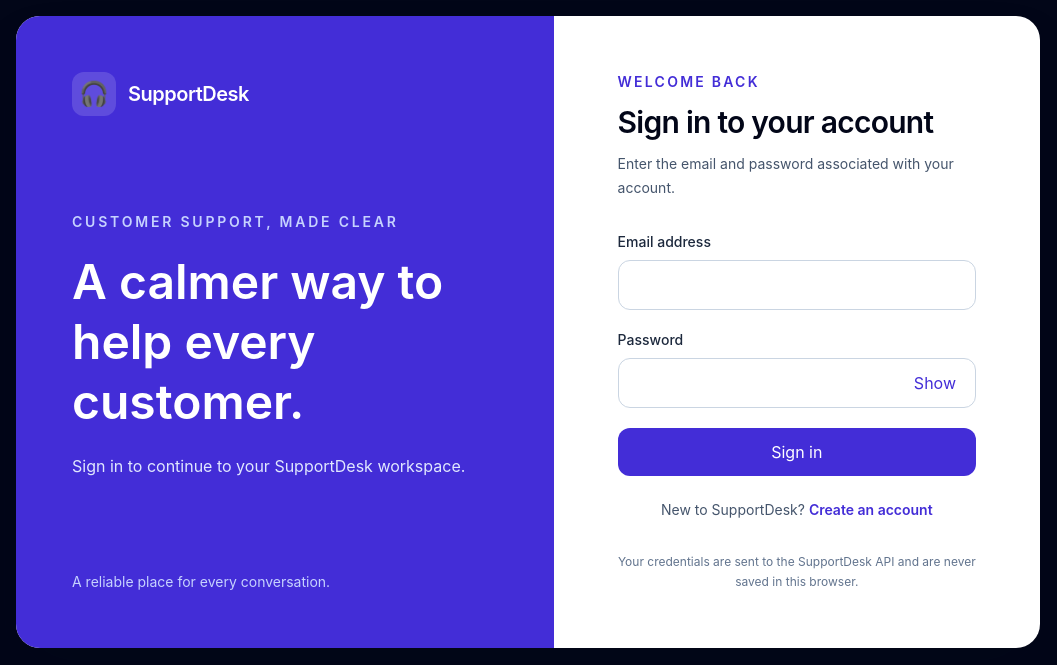
SupportDesk frontend foundation › toggles password visibility without moving the Show button
Type "demo-password" into the password field labelled "Password" at (797, 383), box [618,358,976,408]
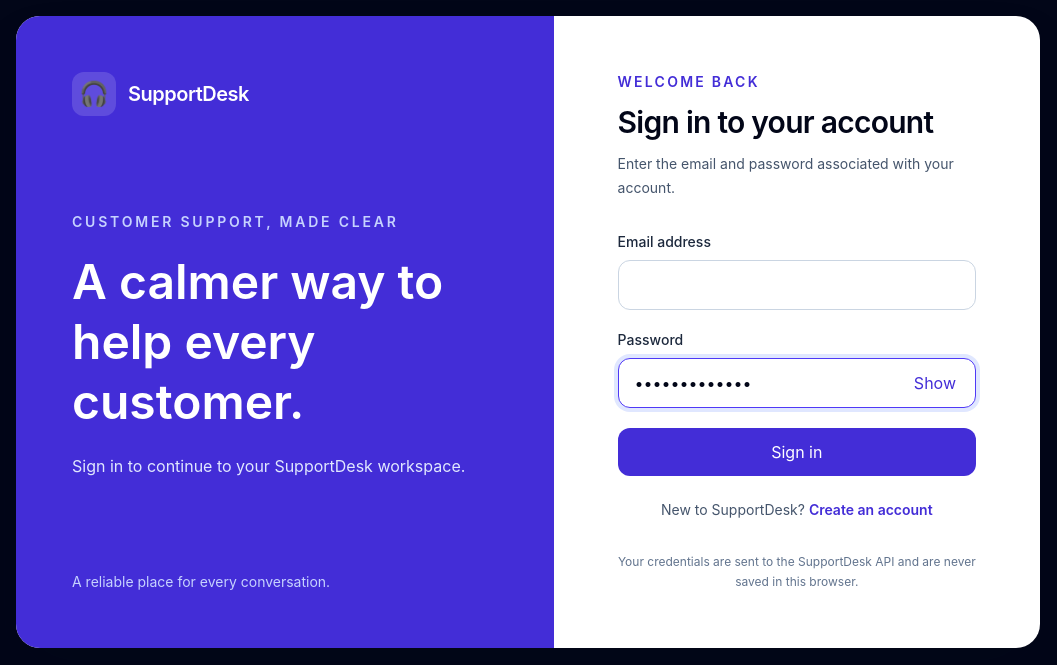
Click the button with aria-label "Show password" at (935, 383), box [906,367,964,399]
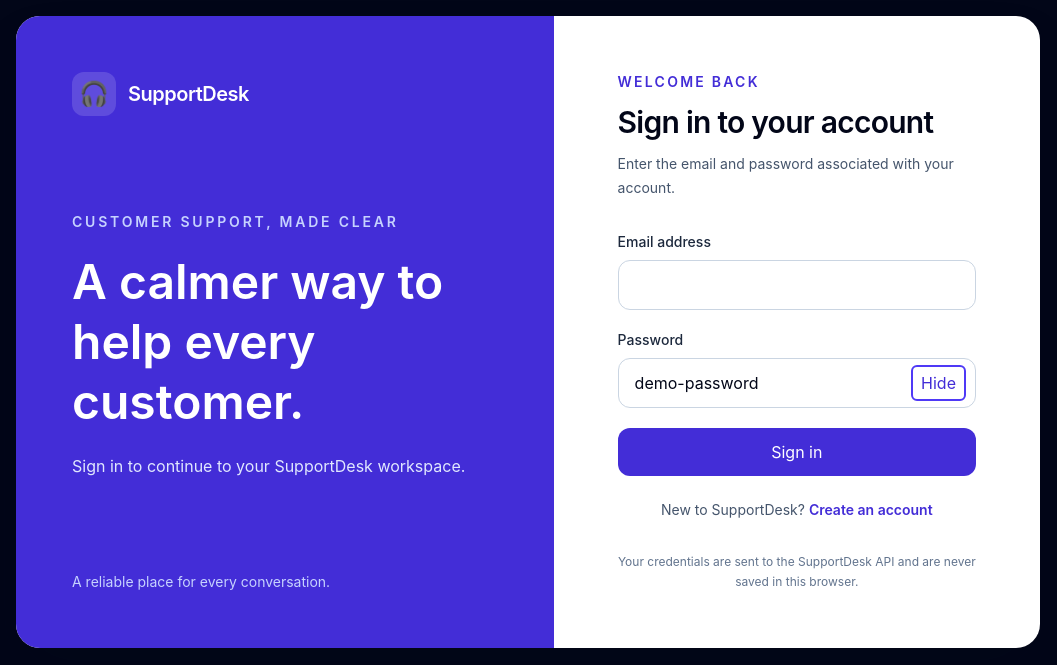
Expected: the field labelled "Password" shows its text, [618,358,976,408]
Click the button with aria-label "Hide password" at (939, 383), box [913,367,964,399]
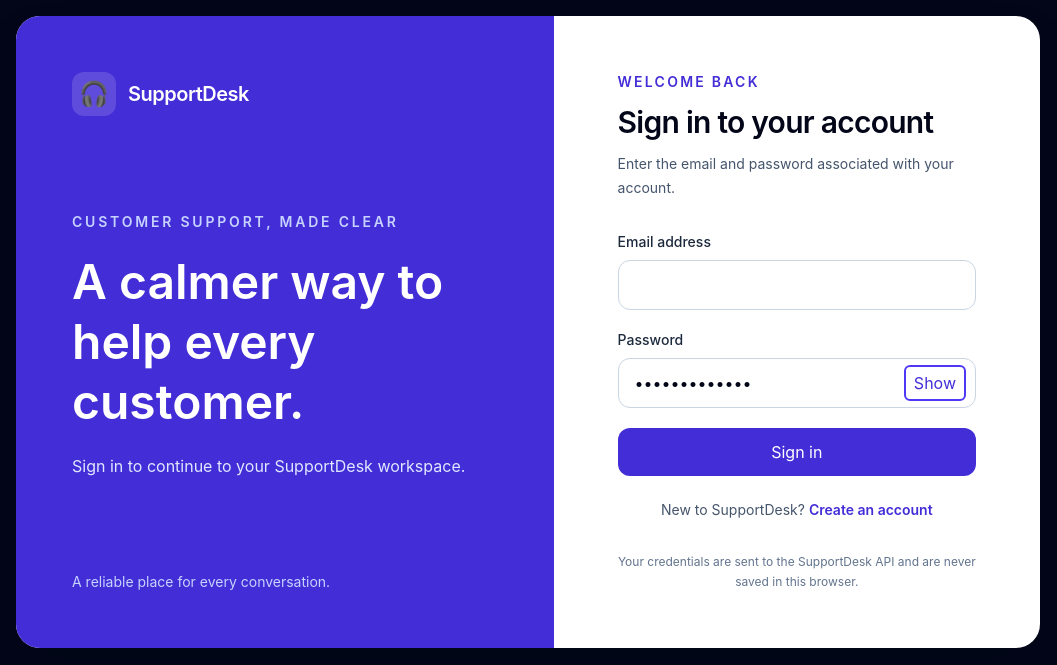
Expected: the password field labelled "Password" hides its text, [618,358,976,408]
